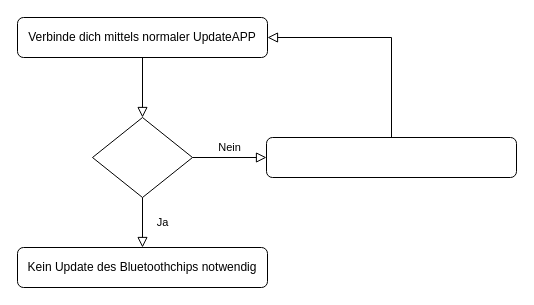
This 534x305 diagram has some shape labels left out. The box of each missing label's shape, as (x1, y1, x2, y2) in pixels:
Update des Bluetoothchips notwendig: (266, 136, 516, 178)
Verbindung Erfolgreich?: (92, 116, 192, 198)
